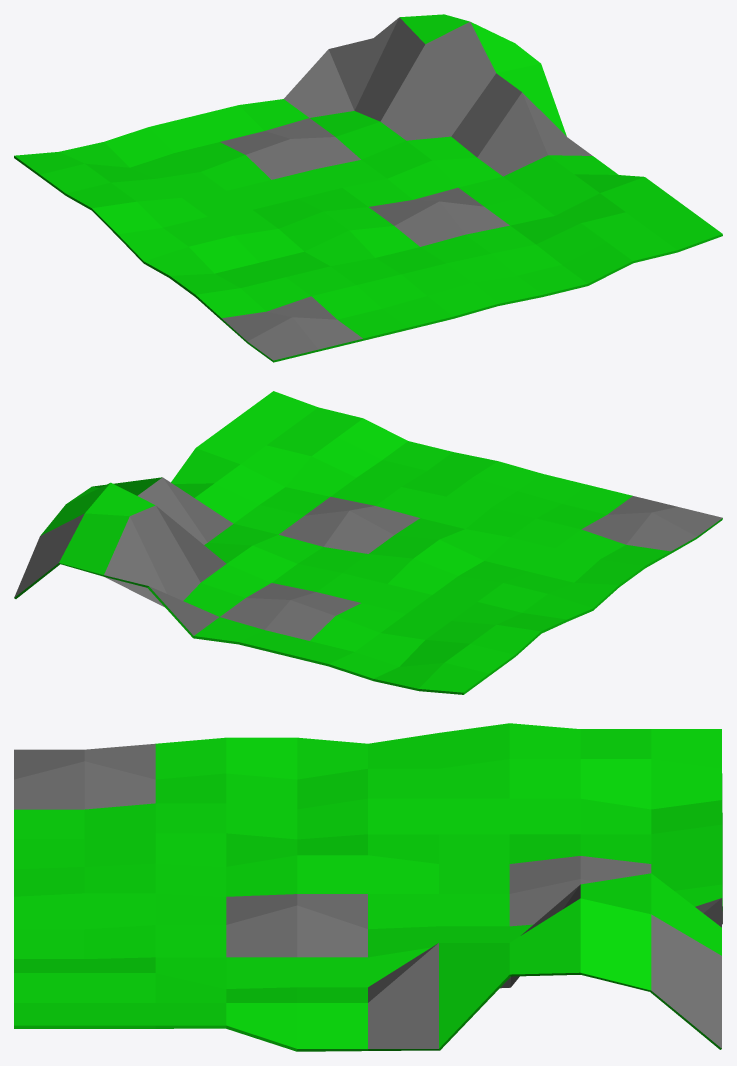
The picture shows the model from 3 angles, top to bottom: view 1: azimuth 30°, elevation 25°; view 2: azimuth 150°, elevation 25°; view 3: azimuth 270°, elevation 25°; orthographic projection. The views are drawn at different scales.
Visible parts, largest first — view 1: mesh_1a; view 2: mesh_1a; view 3: mesh_1a.
Boxes of the visible parts, x1,y1,x2,y2 form: mesh_1a: (14, 14, 722, 362); mesh_1a: (14, 391, 722, 694); mesh_1a: (14, 723, 722, 1051).
Bounding box in the file's own units: 10012 × 1928 × 10012.
